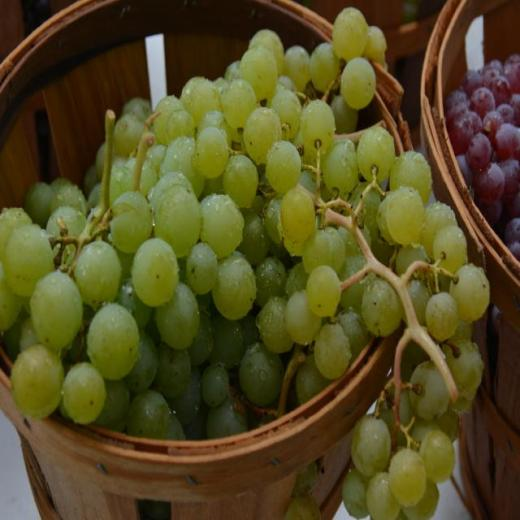Orange: (0, 6, 490, 519), (445, 53, 520, 259)
